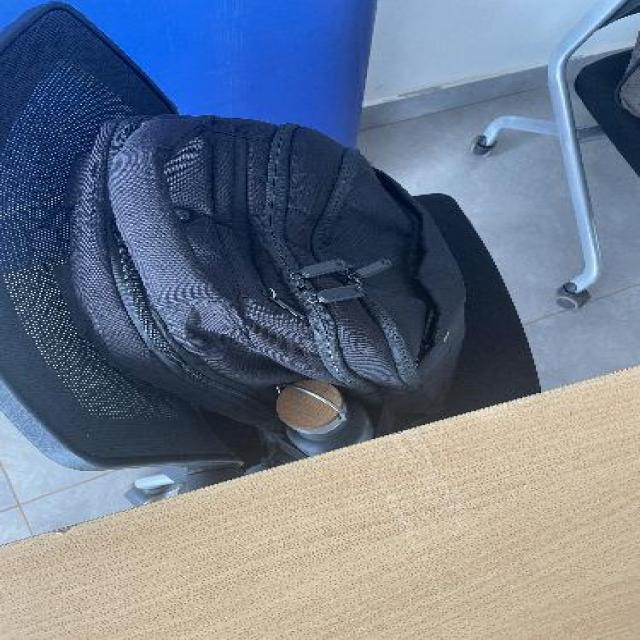canta: (54, 113, 468, 463)
